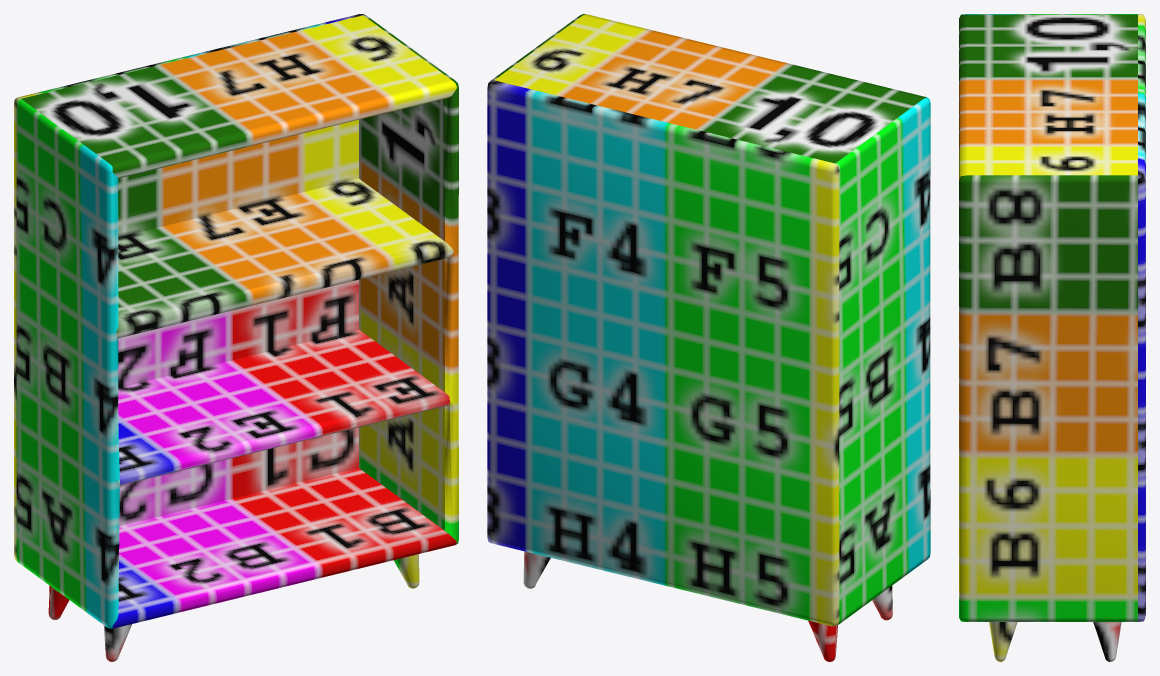
File: Bookshelf_Wide.fbx
The picture shows the model from 3 angles, left to right: view 1: azimuth 30°, elevation 25°; view 2: azimuth 150°, elevation 25°; view 3: azimuth 270°, elevation 25°; orthographic projection. The views are drawn at different scales.
Visible parts, largest first — view 1: Bookshelf Wide; view 2: Bookshelf Wide; view 3: Bookshelf Wide.
Boxes of the visible parts, x1,y1,x2,y2 form: Bookshelf Wide: [14, 14, 458, 661]; Bookshelf Wide: [487, 14, 930, 661]; Bookshelf Wide: [959, 14, 1145, 661].
Size of the model in its own units: 70.94 by 33.95 by 99.54.
Materials: 1 (1 with a texture image).
